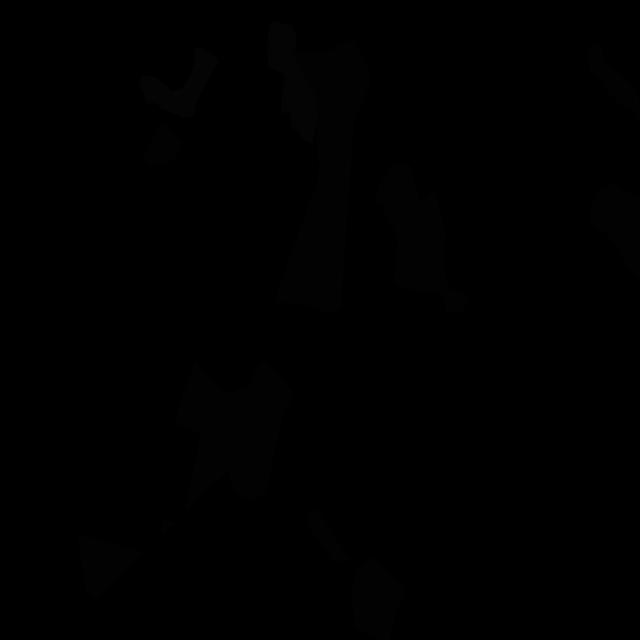cardboard: (274, 38, 370, 313), (375, 164, 469, 314), (176, 363, 268, 512), (228, 361, 294, 500), (589, 184, 640, 280), (352, 557, 406, 640), (77, 532, 142, 599), (588, 44, 640, 119), (306, 508, 350, 561), (143, 121, 182, 166), (160, 519, 176, 537)
soft_plastic: (267, 21, 318, 144), (140, 47, 219, 118)
